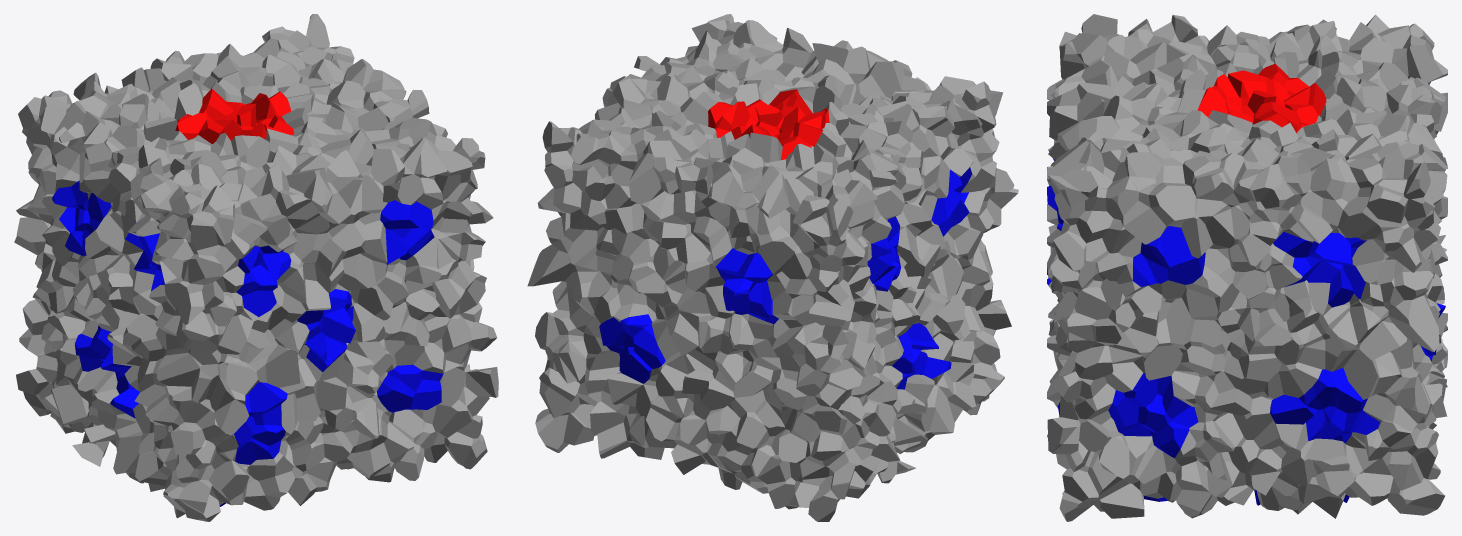
Rendered from Titanium.glb.
The picture shows the model from 3 angles, left to right: view 1: azimuth 30°, elevation 25°; view 2: azimuth 150°, elevation 25°; view 3: azimuth 270°, elevation 25°; orthographic projection. The views are drawn at different scales.
Visible parts, largest first — view 1: Titanium; view 2: Titanium; view 3: Titanium.
Part boxes in pixels (x1,y1,x2,y2): Titanium: (14,14,498,521); Titanium: (527,14,1018,521); Titanium: (1047,14,1447,521).
Bounding box in the file's own units: 0.5398 × 0.5398 × 0.5398.
